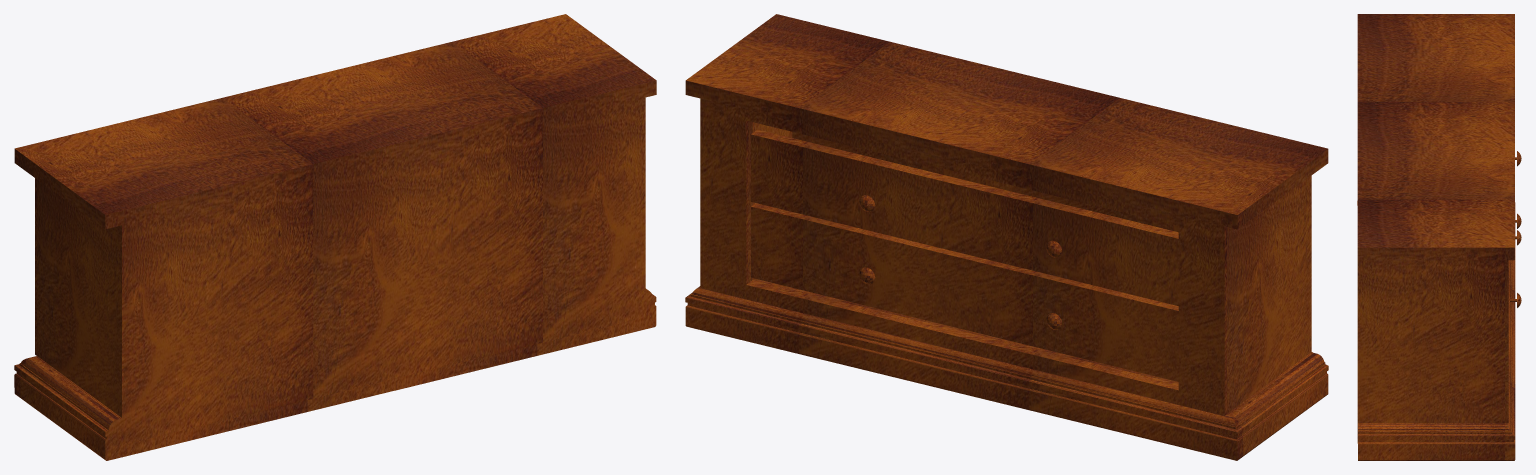
3 renders of one model, left to right at view 1: azimuth 30°, elevation 25°; view 2: azimuth 150°, elevation 25°; view 3: azimuth 270°, elevation 25°, orthographic. The views are drawn at different scales.
Visible parts, largest first — view 1: mesh19_mesh19-geometry, mesh17_mesh17-geometry, mesh22_mesh22-geometry; view 2: mesh17_mesh17-geometry, mesh19_mesh19-geometry, mesh15_mesh15-geometry, mesh13_mesh13-geometry, mesh22_mesh22-geometry; view 3: mesh17_mesh17-geometry, mesh19_mesh19-geometry, mesh22_mesh22-geometry.
Part boxes in pixels (<box>): mesh19_mesh19-geometry: <box>35,97,645,417</box>; mesh17_mesh17-geometry: <box>14,14,656,229</box>; mesh22_mesh22-geometry: <box>14,288,656,460</box>; mesh17_mesh17-geometry: <box>685,14,1328,229</box>; mesh19_mesh19-geometry: <box>700,98,1311,415</box>; mesh15_mesh15-geometry: <box>751,203,1178,381</box>; mesh13_mesh13-geometry: <box>751,129,1178,305</box>; mesh22_mesh22-geometry: <box>685,278,1328,460</box>; mesh17_mesh17-geometry: <box>1357,14,1514,260</box>; mesh19_mesh19-geometry: <box>1357,260,1508,423</box>; mesh22_mesh22-geometry: <box>1357,201,1515,460</box>.
Size of the model in its own units: 0.8872 by 0.3789 by 0.2633.
